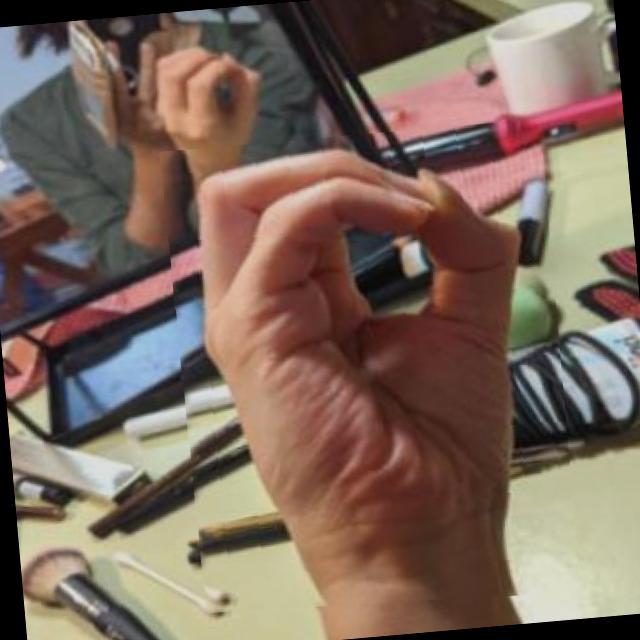O: (158, 118, 580, 624)
